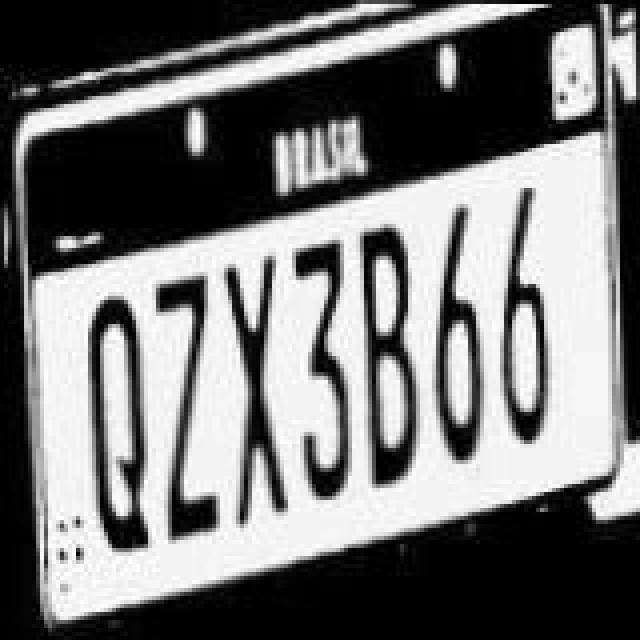3: (284, 238, 356, 502)
6: (492, 180, 556, 452), (428, 204, 492, 468)
B: (352, 220, 424, 492)
Q: (80, 294, 156, 554)
X: (216, 258, 292, 534)
Z: (152, 274, 228, 542)
